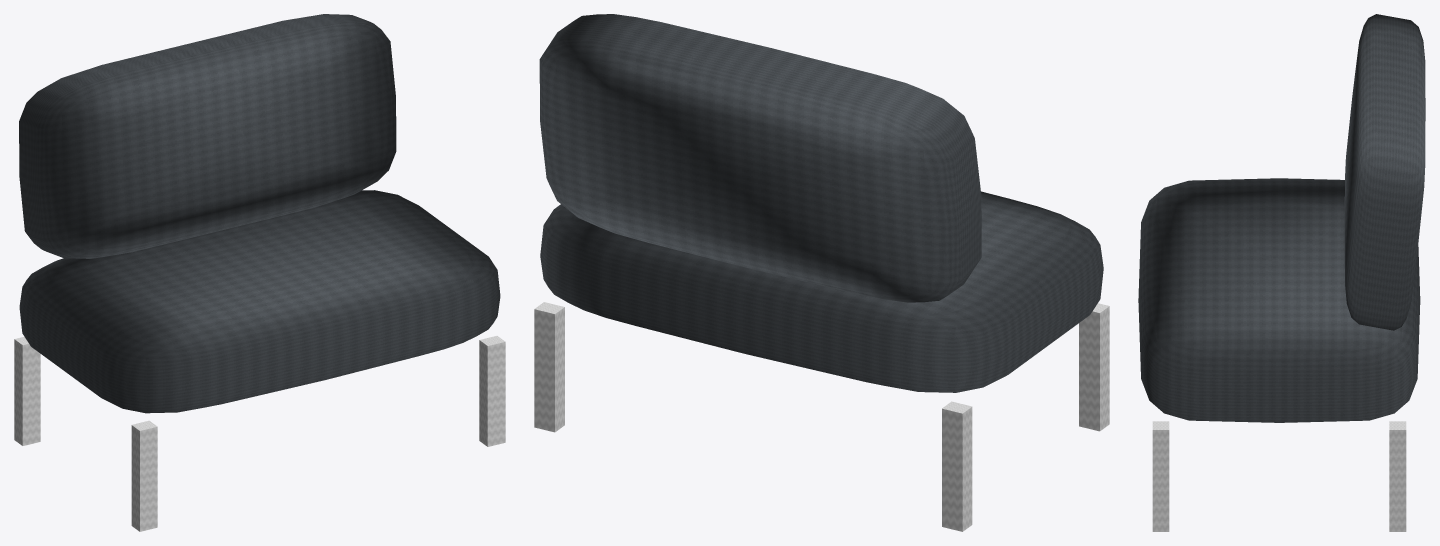
3 renders of one model, left to right at view 1: azimuth 30°, elevation 25°; view 2: azimuth 150°, elevation 25°; view 3: azimuth 270°, elevation 25°, orthographic. The views are drawn at different scales.
Parts seen in each view (by area): view 1: 1 seat, 2 backrest, 3 front_left_leg, 4 front_right_leg, 5 back_left_leg; view 2: 2 backrest, 1 seat, 6 back_right_leg, 5 back_left_leg, 3 front_left_leg; view 3: 1 seat, 2 backrest, 4 front_right_leg, 6 back_right_leg.
Boxes of the visible parts, bbox=[...] form: 1 seat: bbox=[19, 190, 500, 413]; 2 backrest: bbox=[19, 14, 396, 258]; 3 front_left_leg: bbox=[131, 420, 157, 531]; 4 front_right_leg: bbox=[479, 336, 505, 446]; 5 back_left_leg: bbox=[14, 336, 40, 445]; 2 backrest: bbox=[539, 14, 981, 302]; 1 seat: bbox=[540, 191, 1103, 392]; 6 back_right_leg: bbox=[534, 302, 564, 432]; 5 back_left_leg: bbox=[942, 401, 972, 531]; 3 front_left_leg: bbox=[1079, 303, 1109, 431]; 1 seat: bbox=[1138, 178, 1420, 422]; 2 backrest: bbox=[1344, 14, 1425, 330]; 4 front_right_leg: bbox=[1152, 421, 1169, 531]; 6 back_right_leg: bbox=[1389, 421, 1406, 531].
Bounding box in the file's own units: 0.98 × 0.845 × 0.61.
2 materials, 2 textured.
